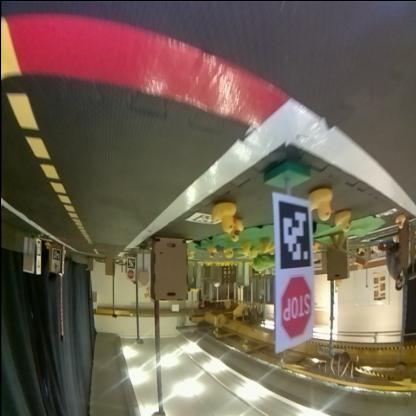Duckie: (308, 188, 332, 218), (214, 203, 234, 231), (334, 210, 352, 232), (231, 219, 242, 241), (395, 214, 405, 229), (259, 238, 269, 252), (240, 242, 250, 254), (224, 247, 233, 258), (207, 247, 213, 255)
QR code: (278, 202, 314, 268), (186, 212, 222, 226), (128, 258, 135, 266)
Stop sign: (274, 272, 312, 332), (126, 272, 134, 280)
